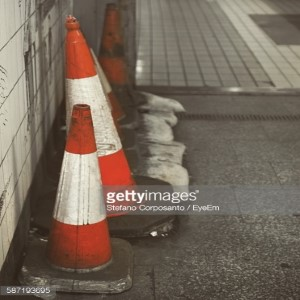traffic cone: (33, 14, 178, 240), (17, 103, 132, 294)
